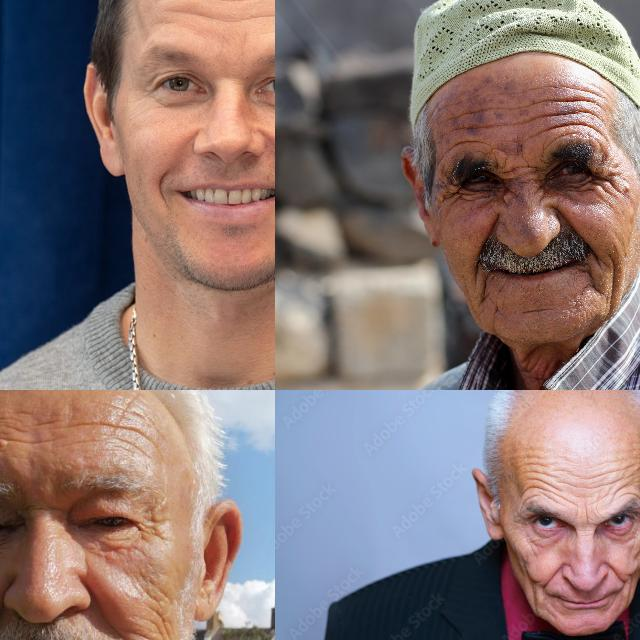chin: (516, 301, 558, 321)
crows_feet: (131, 506, 167, 546), (589, 169, 615, 205), (134, 81, 160, 107), (439, 181, 463, 205)
forehead: (158, 0, 233, 26), (556, 92, 596, 132), (106, 400, 144, 440), (452, 104, 491, 134), (514, 102, 546, 134), (10, 429, 50, 453), (244, 0, 275, 28), (520, 467, 548, 498), (618, 458, 640, 497), (551, 468, 573, 506), (584, 471, 616, 494), (451, 132, 492, 148)
frown_line: (502, 162, 538, 185), (27, 496, 63, 518), (581, 506, 595, 528)
gummy_smile: (559, 207, 589, 241), (84, 584, 110, 622), (483, 214, 501, 252), (541, 560, 563, 586), (606, 560, 624, 584), (0, 594, 6, 639)
masseter: (145, 586, 175, 640), (605, 258, 621, 298), (621, 576, 637, 602), (518, 554, 532, 576)
sad_smile: (152, 172, 172, 208), (583, 264, 599, 298), (478, 272, 492, 304)
